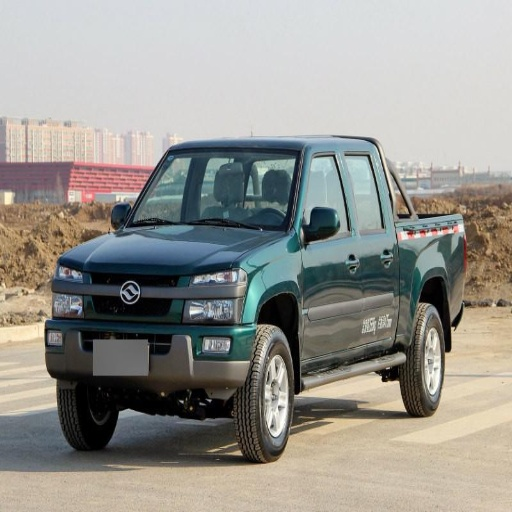back_glass: (340, 142, 395, 346)
back_right_light: (45, 268, 253, 392)
front_bumper: (122, 148, 298, 229)
front_glass: (299, 148, 365, 362)
front_left_door: (191, 266, 247, 300)
front_right_light: (67, 224, 277, 272)
tailgate: (398, 219, 461, 338)
trunk: (239, 327, 292, 462), (400, 305, 447, 416), (59, 380, 119, 449)
